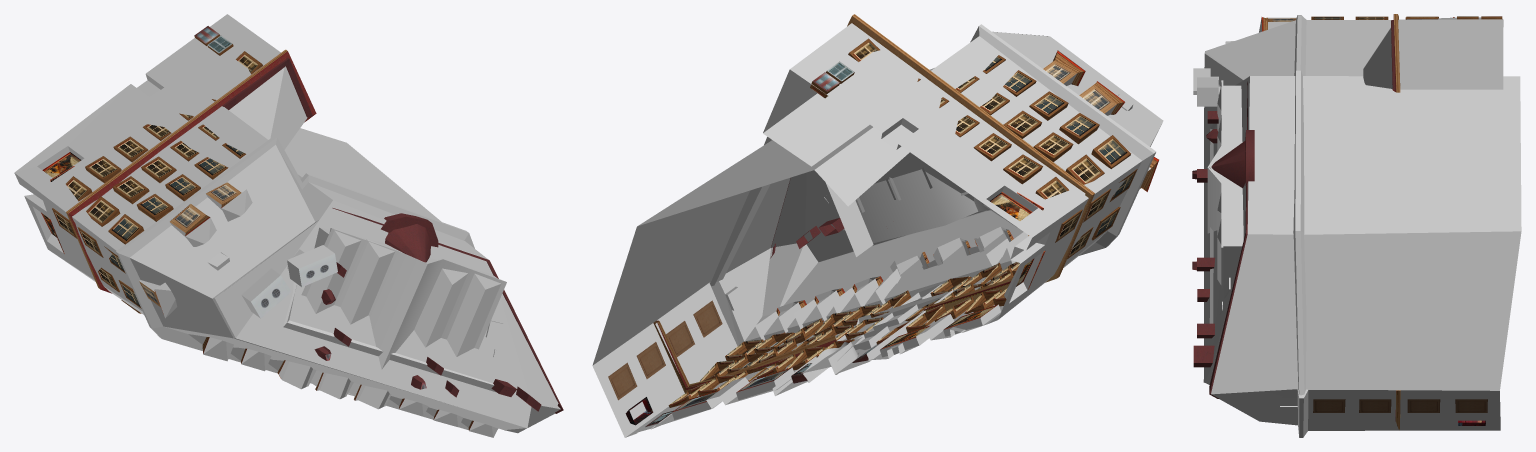
The model's file is Suur-Karja_17-origo.obj.
3 views of the same model, side by side, from view 1: azimuth 30°, elevation 25°; view 2: azimuth 150°, elevation 25°; view 3: azimuth 270°, elevation 25° (orthographic). The views are drawn at different scales.
Parts seen in each view (by area): view 1: Suur_Karja_17; view 2: Suur_Karja_17; view 3: Suur_Karja_17.
Part boxes in pixels (x1,y1,x2,y2): Suur_Karja_17: (14,14,563,437); Suur_Karja_17: (592,14,1163,437); Suur_Karja_17: (1192,14,1521,437).
Bounding box in the file's own units: 33 × 30 × 25.2.
